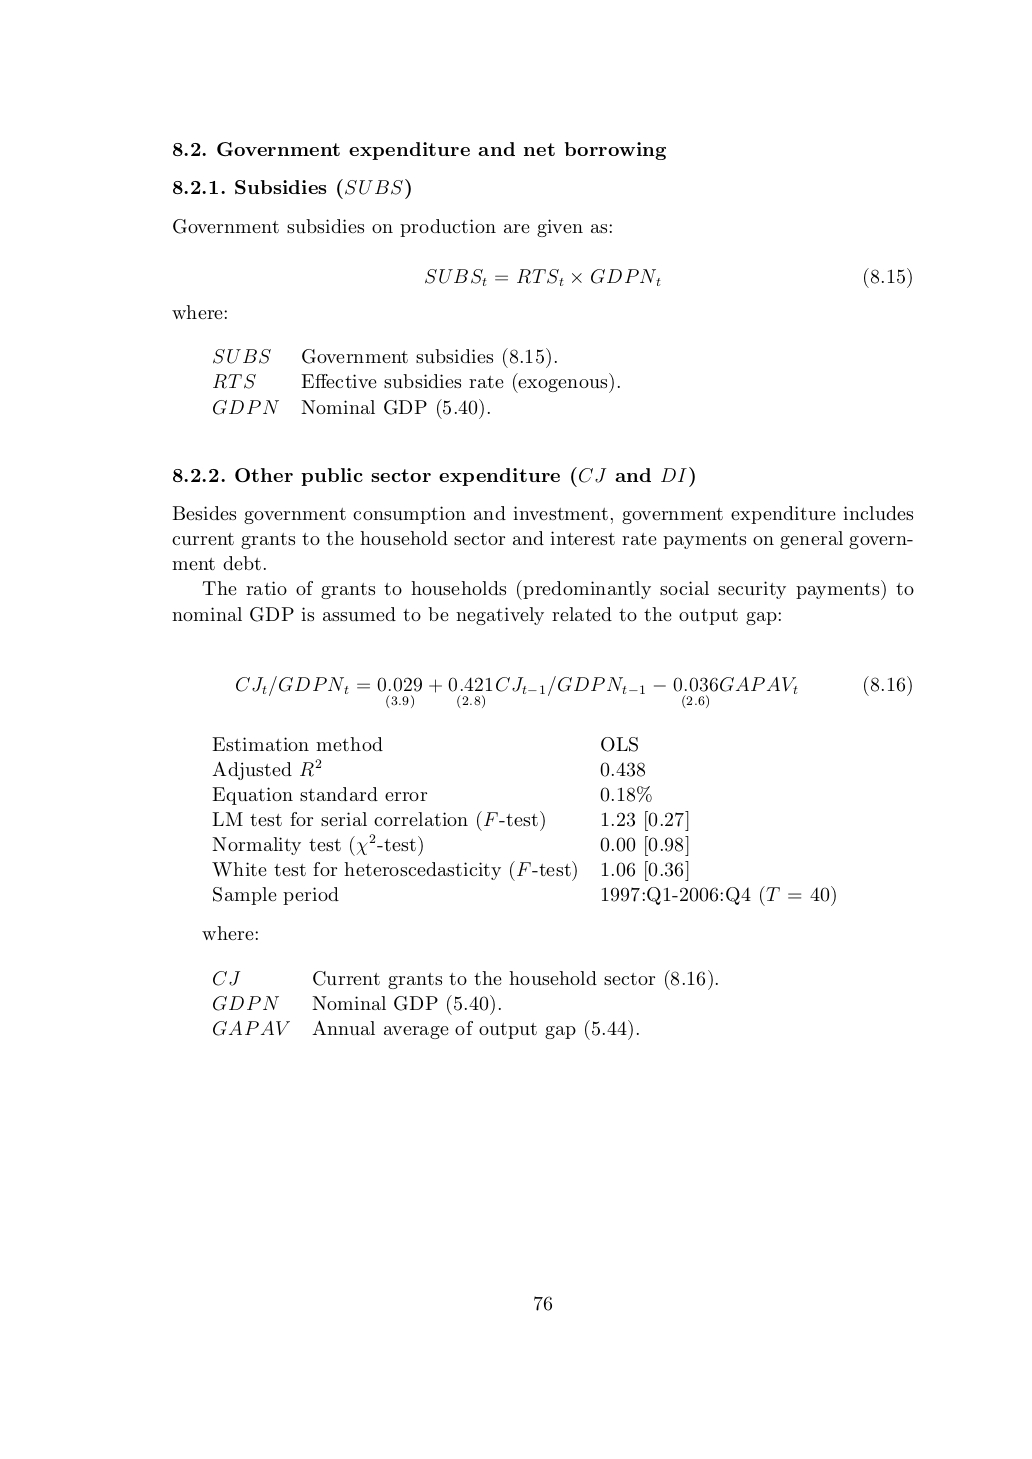Table: (212, 737, 835, 905)
formula: (236, 675, 911, 709), (426, 267, 911, 288)
